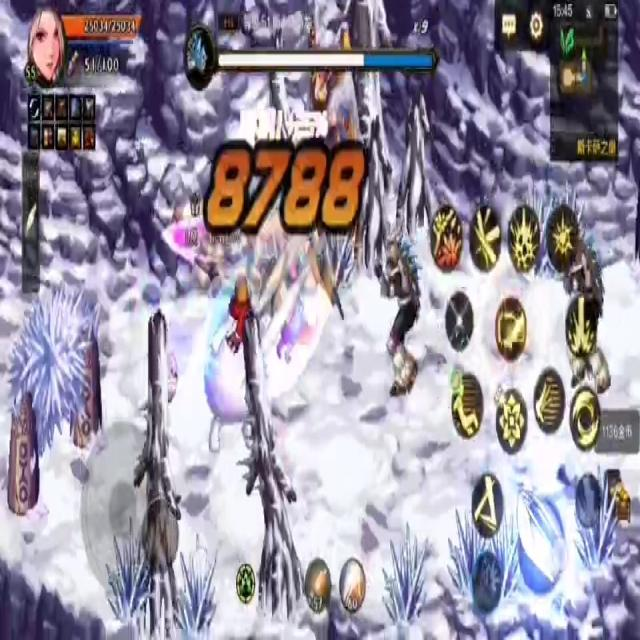player: (205, 272, 257, 455)
